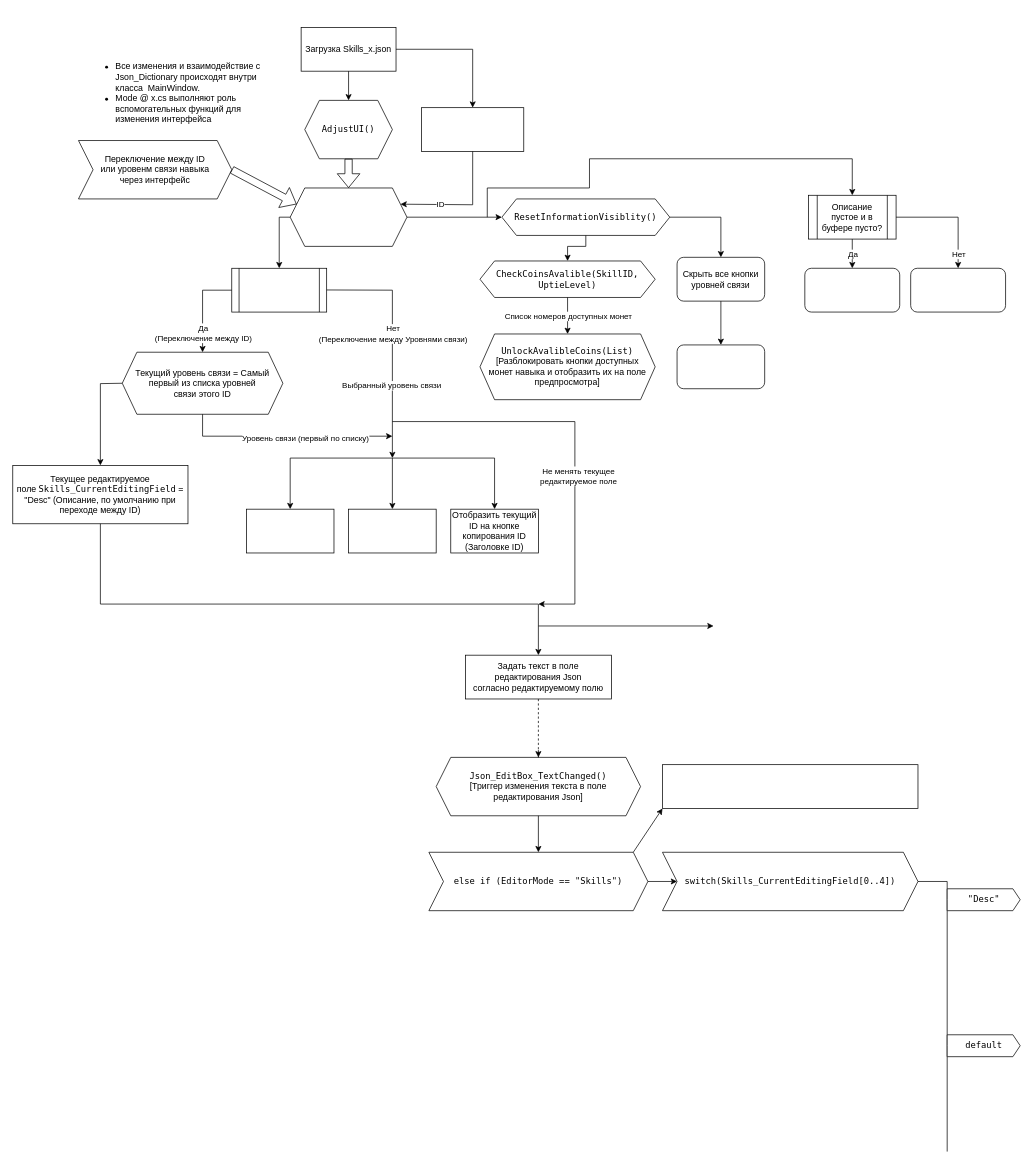
The diagram is 1033 pixels wide and 1165 high, and some of its shapes have lost their labels. Here are the shapes that lost their labels. From the top down, the box of each, then its label:
(421, 107, 524, 151): Текущий ID = Самый первый из списка
(289, 187, 407, 246): UpdateMenuInfo(ID, UptieLevel )
(231, 268, 327, 312): UptieLevel = 0 ?
(804, 268, 900, 312): Оставить нулевую высоту элемента в поле предпросмотра
(910, 268, 1006, 312): Показать в поле предпросмотра
(676, 344, 765, 389): Разблокировать только доступные
(246, 508, 334, 553): Отобразить имя навыка в поле редактирования
(348, 508, 436, 553): Отобразить имя навыка на заголовке
(662, 764, 918, 808): UpdatePreview_Target = Default UpdatePreview_Text = ""
